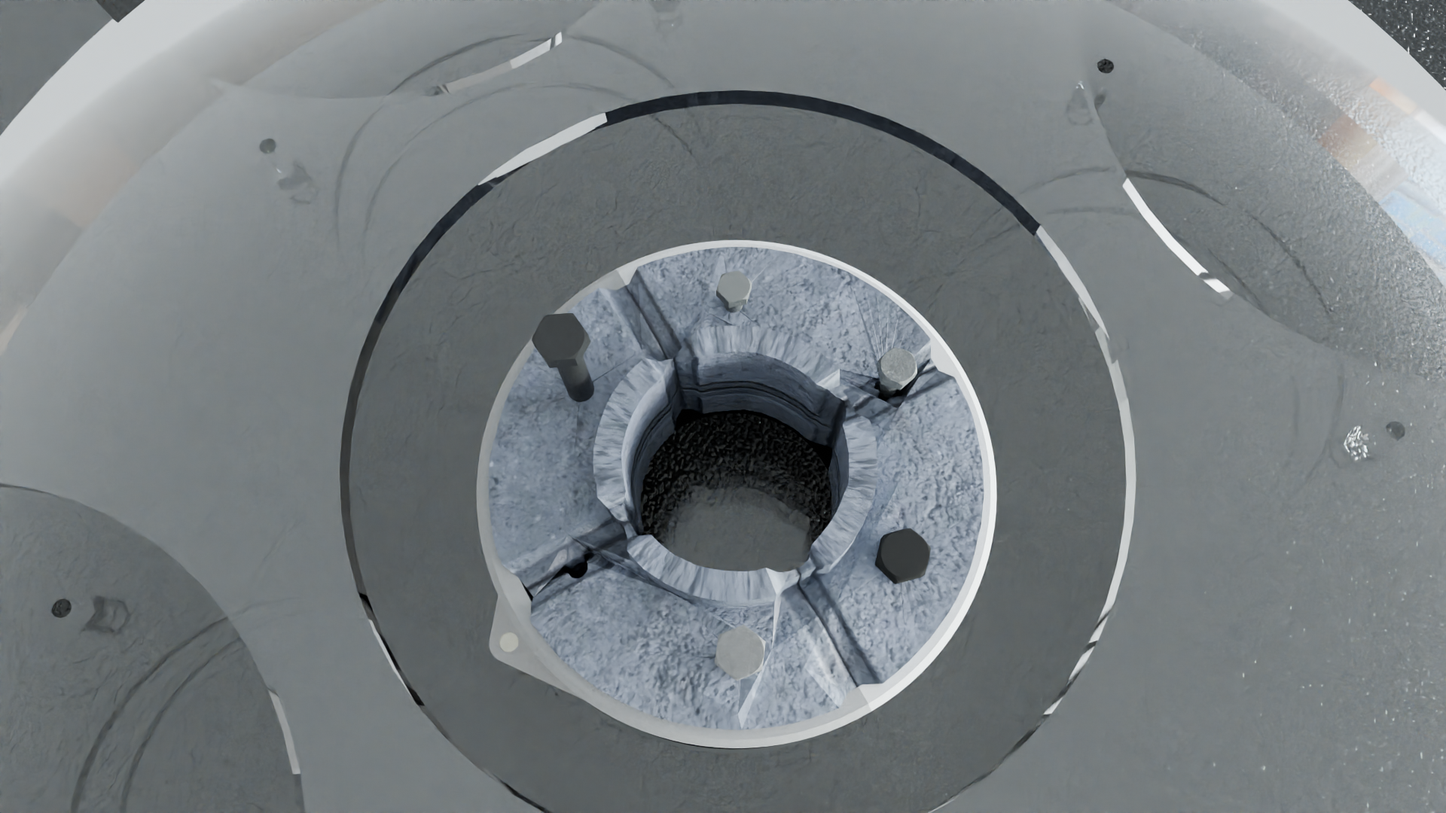bolt: (877, 528, 931, 582), (715, 625, 766, 681), (532, 313, 588, 361), (878, 348, 917, 385), (716, 270, 752, 303)
